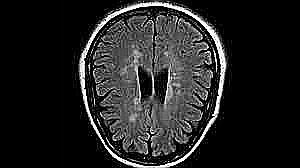Normal_Brain: (36, 1, 211, 168)
